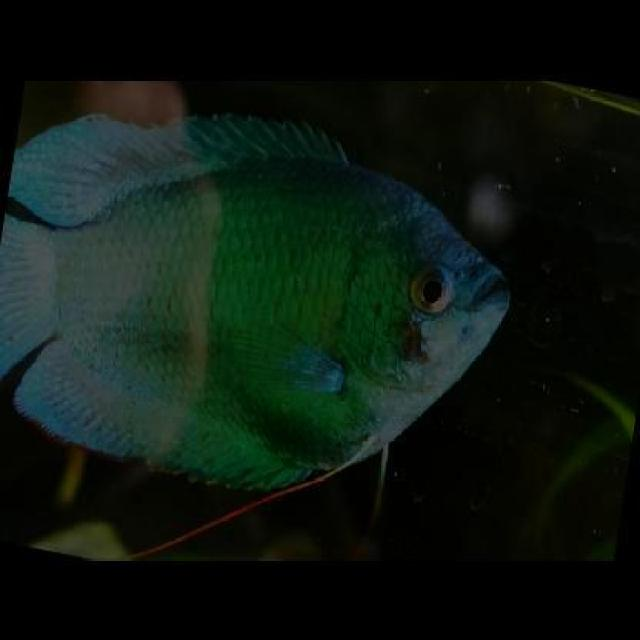Gourami: (2, 108, 509, 498)
